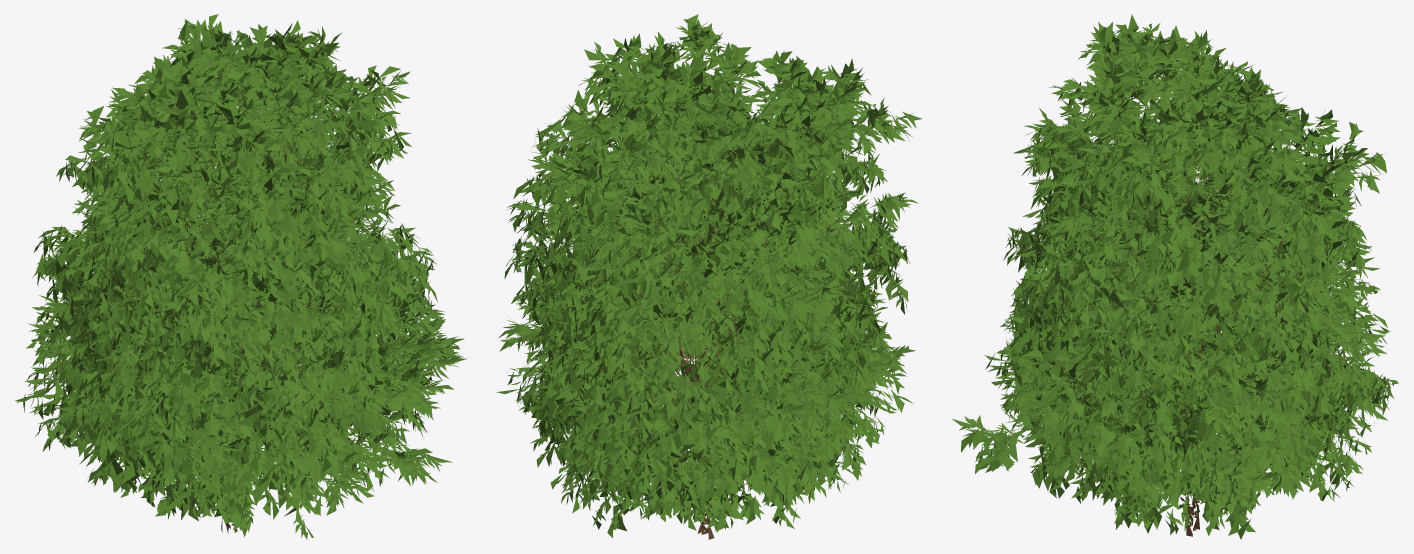
Rendered from editor-plants.glb.
3 renders of one model, left to right at view 1: azimuth 30°, elevation 25°; view 2: azimuth 150°, elevation 25°; view 3: azimuth 270°, elevation 25°, orthographic. The views are drawn at different scales.
Parts seen in each view (by area): view 1: plant_2_high, plant_1_high, plant_3_high, plant_2_medium, plant_0_high, plant_0_medium, plant_2_low, plant_1_low, plant_3_low, plant_0_low; view 2: plant_2_high, plant_1_high, plant_3_high, plant_2_medium, plant_0_high, plant_2_low, plant_0_medium, plant_3_low, plant_1_low; view 3: plant_2_high, plant_1_high, plant_3_high, plant_0_high, plant_2_medium, plant_0_medium, plant_2_low, plant_0_low, plant_1_low, plant_3_low.
Part boxes in pixels (x1,y1,x2,y2): plant_2_high: (34,14,437,533); plant_1_high: (15,106,438,532); plant_3_high: (25,99,427,539); plant_2_medium: (32,19,437,466); plant_0_high: (30,250,466,537); plant_0_medium: (28,244,464,534); plant_2_low: (43,33,428,457); plant_1_low: (39,135,425,489); plant_3_low: (44,163,411,508); plant_0_low: (65,256,448,495); plant_2_high: (504,14,922,539); plant_1_high: (496,117,913,533); plant_3_high: (507,120,899,537); plant_2_medium: (508,26,911,482); plant_0_high: (498,235,912,534); plant_2_low: (513,34,906,473); plant_0_medium: (499,240,915,515); plant_3_low: (532,136,894,519); plant_1_low: (523,170,896,507); plant_2_high: (1001,16,1390,536); plant_1_high: (984,118,1390,539); plant_3_high: (989,135,1398,534); plant_0_high: (957,231,1315,530); plant_2_medium: (1006,14,1388,481); plant_0_medium: (952,230,1316,519); plant_2_low: (1011,36,1382,499); plant_0_low: (976,288,1304,501); plant_1_low: (1025,147,1354,498); plant_3_low: (1022,152,1377,523).
Bounding box in the file's own units: 3 × 3.75 × 3.2.
